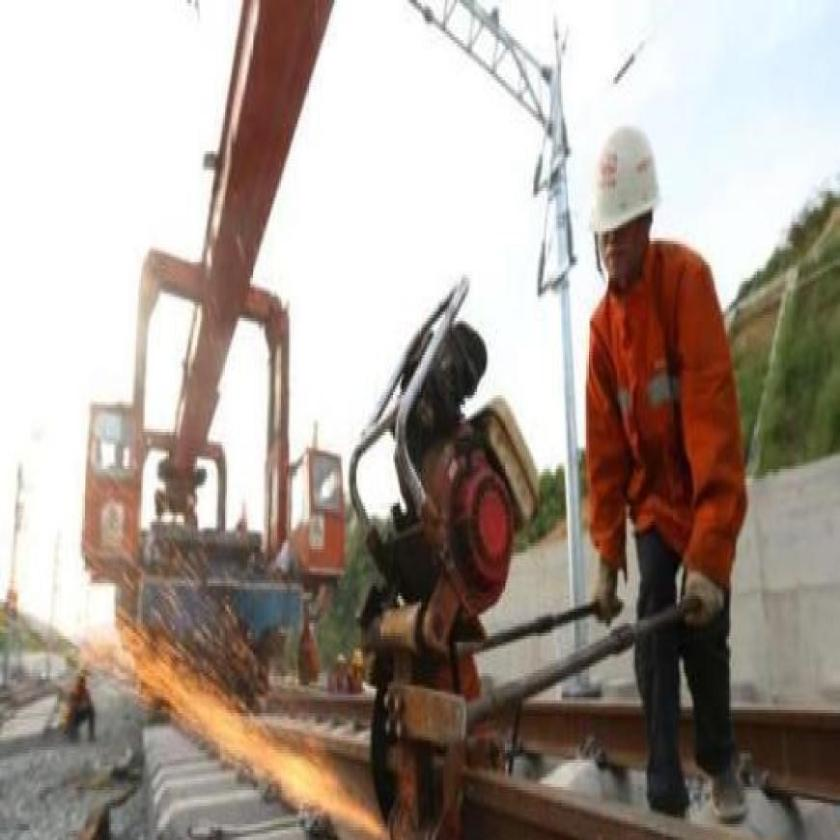Con_casco: (587, 120, 662, 301)
